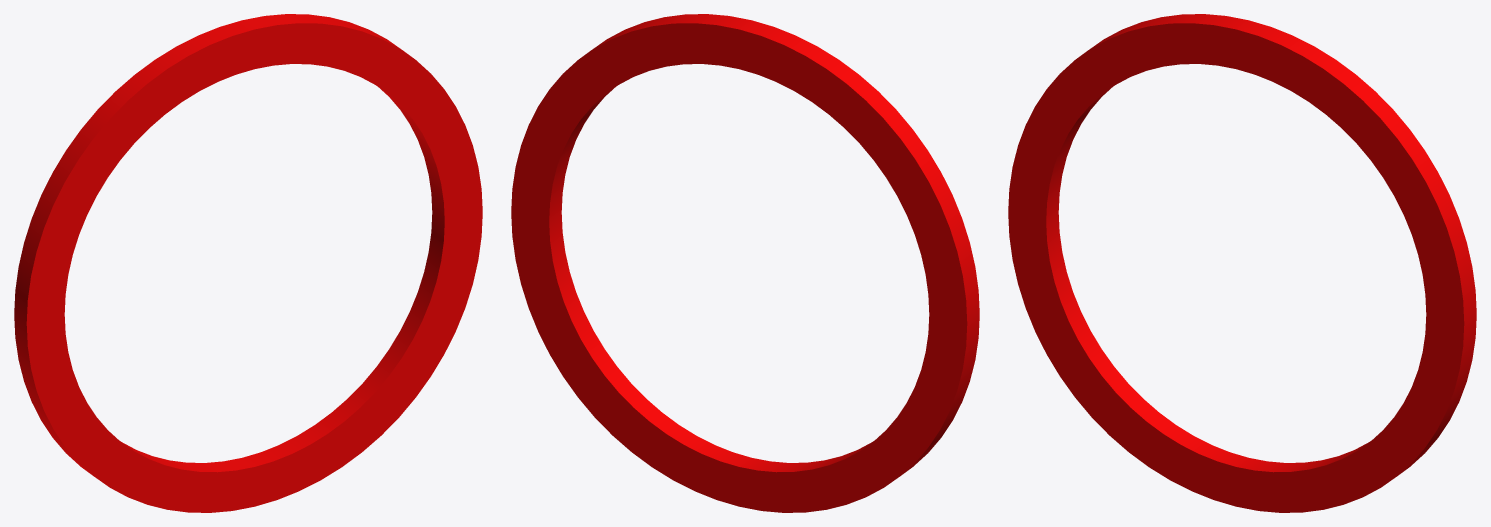
File: target.fbx
3 renders of one model, left to right at view 1: azimuth 30°, elevation 25°; view 2: azimuth 150°, elevation 25°; view 3: azimuth 330°, elevation 25°, orthographic.
Visible parts, largest first — view 1: target; view 2: target; view 3: target.
Part boxes in pixels (left/top/right/bottom): target: left=14, top=14, right=482, bottom=512; target: left=511, top=14, right=979, bottom=512; target: left=1008, top=14, right=1476, bottom=512.
Size of the model in its own units: 48 by 48 by 2.28.
